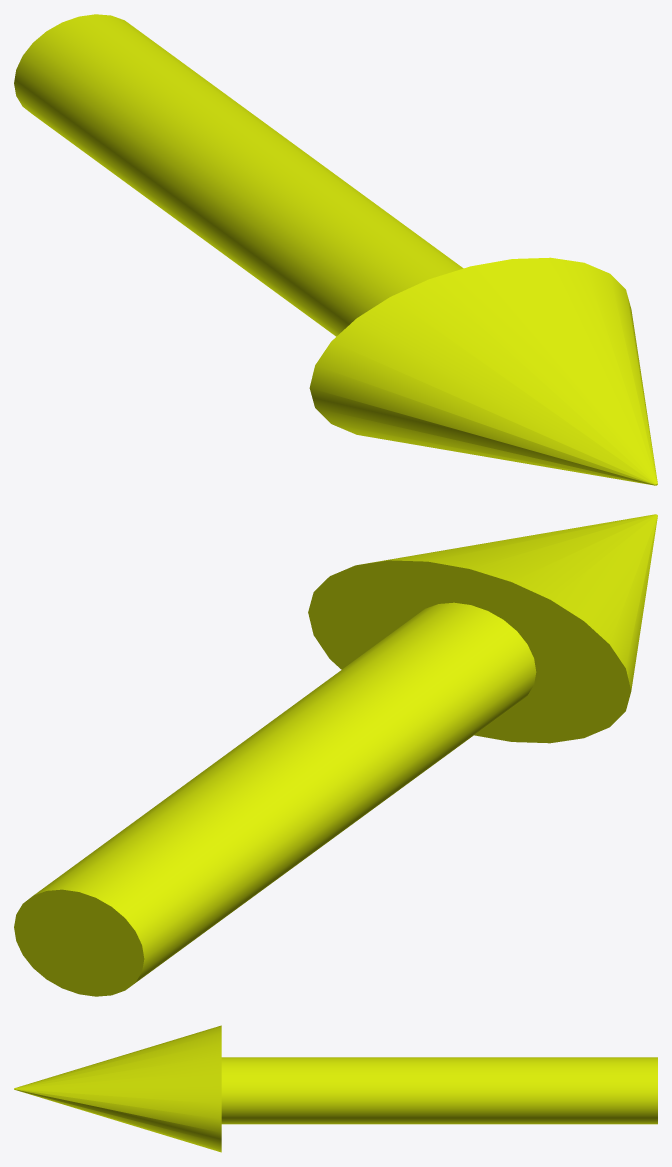
Rendered from Arrow.fbx.
3 renders of one model, top to bottom at view 1: azimuth 30°, elevation 25°; view 2: azimuth 150°, elevation 25°; view 3: azimuth 270°, elevation 25°, orthographic. The views are drawn at different scales.
Parts seen in each view (by area): view 1: mergedBlocks; view 2: mergedBlocks; view 3: mergedBlocks.
Boxes of the visible parts, x1,y1,x2,y2 form: mergedBlocks: [14, 14, 657, 485]; mergedBlocks: [14, 514, 657, 996]; mergedBlocks: [14, 1025, 657, 1152].
Size of the model in its own units: 10 by 4.89 by 31.
